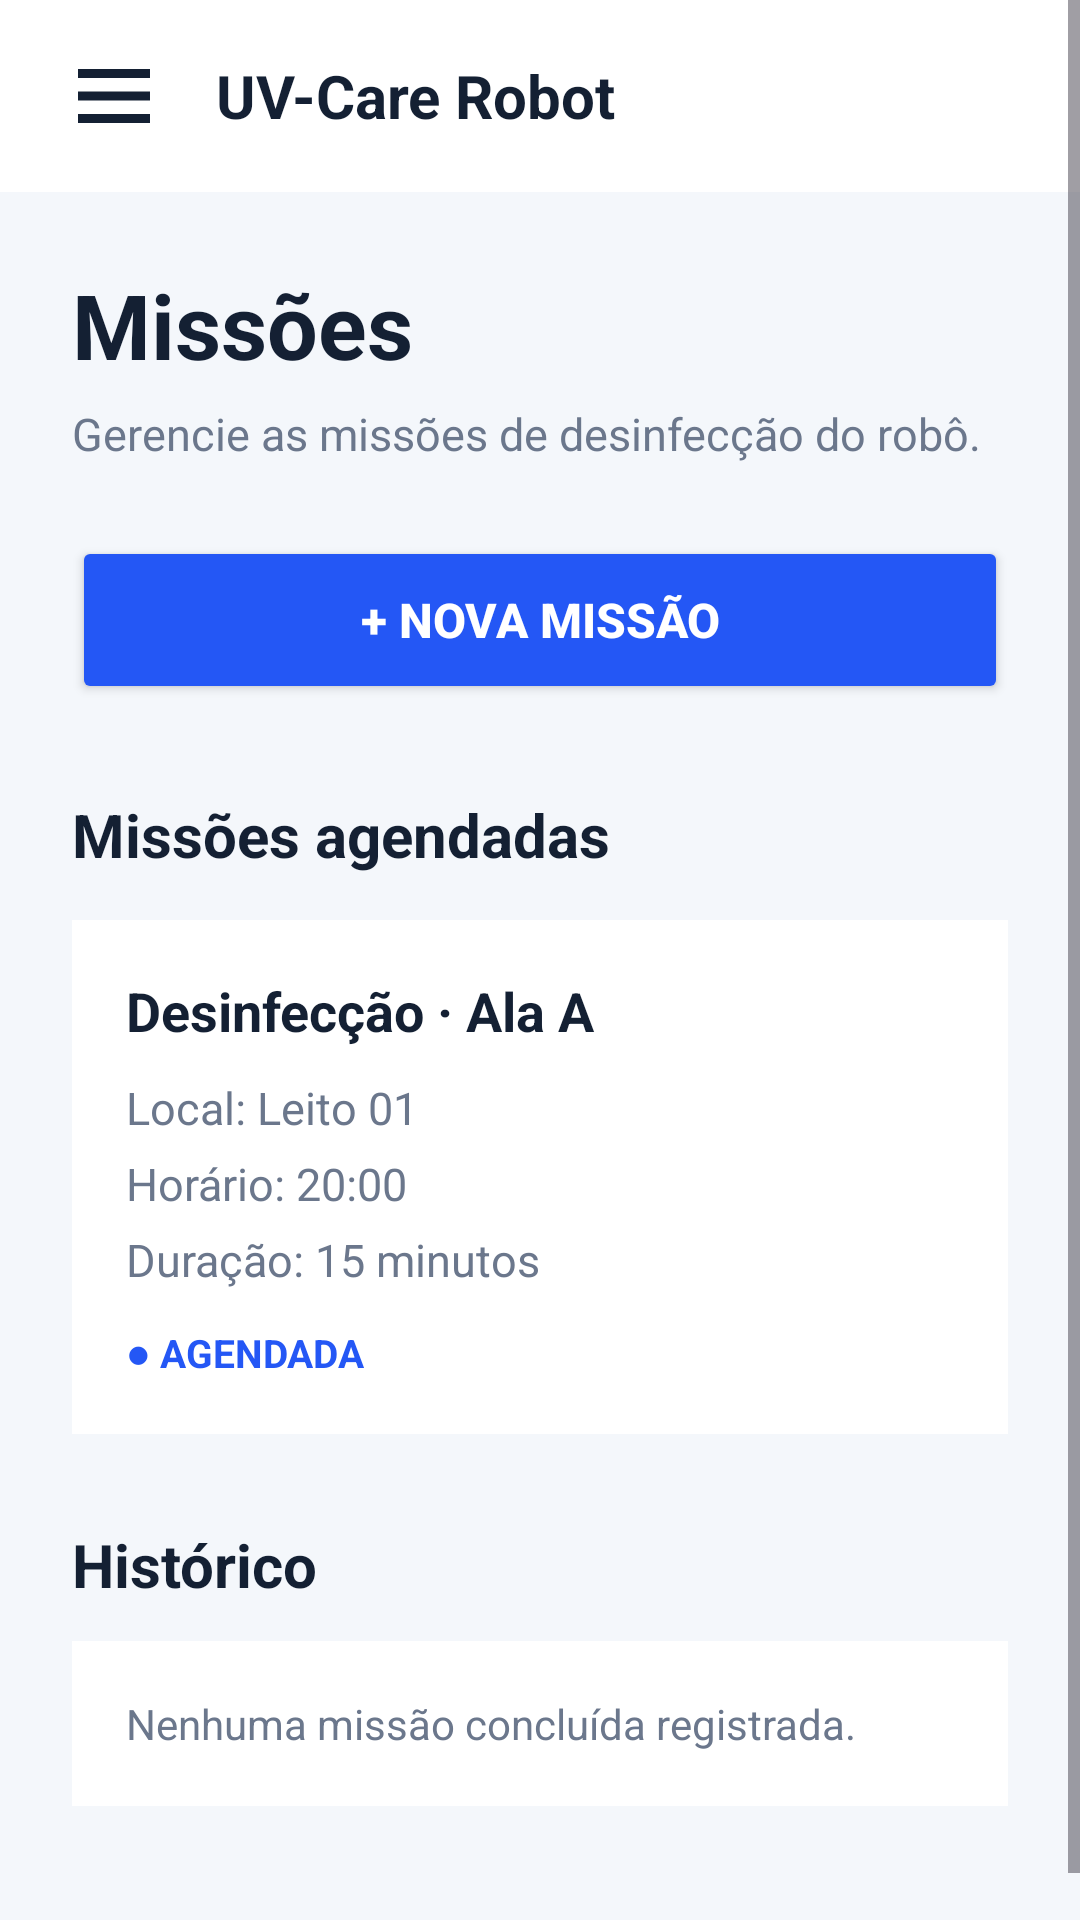

Screen size 1080px×1920px. Icon name, then its center in pixels as (x,y):
Abrir menu: (114,96)
